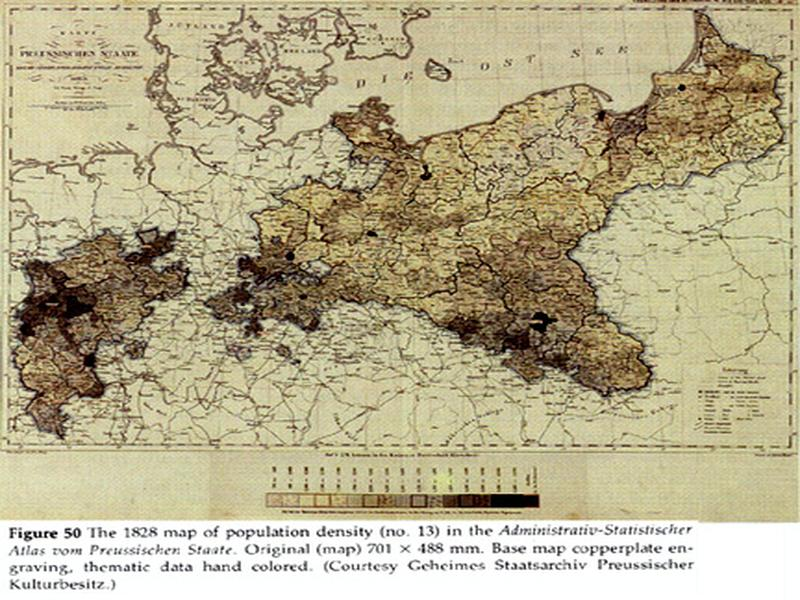legend: (263, 460, 542, 518)
